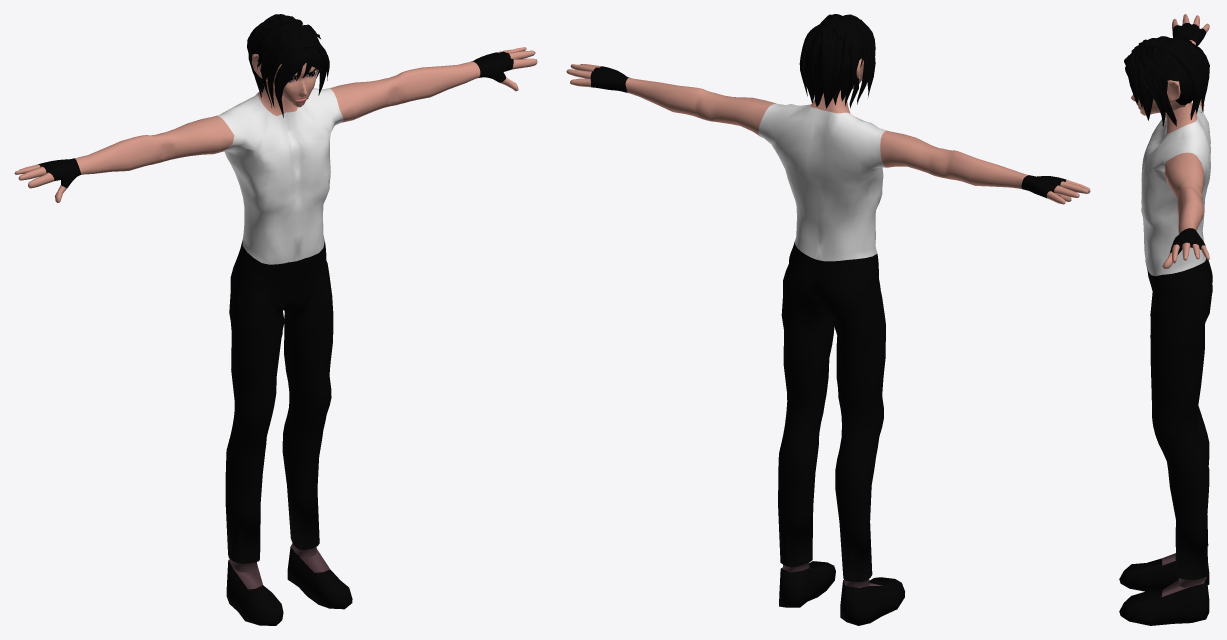
The model's file is HOMEN5.fbx.
3 renders of one model, left to right at view 1: azimuth 30°, elevation 25°; view 2: azimuth 150°, elevation 25°; view 3: azimuth 270°, elevation 25°, orthographic. The views are drawn at different scales.
Parts seen in each view (by area): view 1: homen5, homen5.001; view 2: homen5, homen5.001; view 3: homen5, homen5.001.
Boxes of the visible parts, <box> form: homen5: <box>14,26,537,625</box>; homen5.001: <box>247,14,329,117</box>; homen5: <box>566,58,1090,625</box>; homen5.001: <box>799,14,875,108</box>; homen5: <box>1119,14,1212,625</box>; homen5.001: <box>1124,36,1209,126</box>.
Bounding box in the file's own units: 191 × 205 × 30.84.
